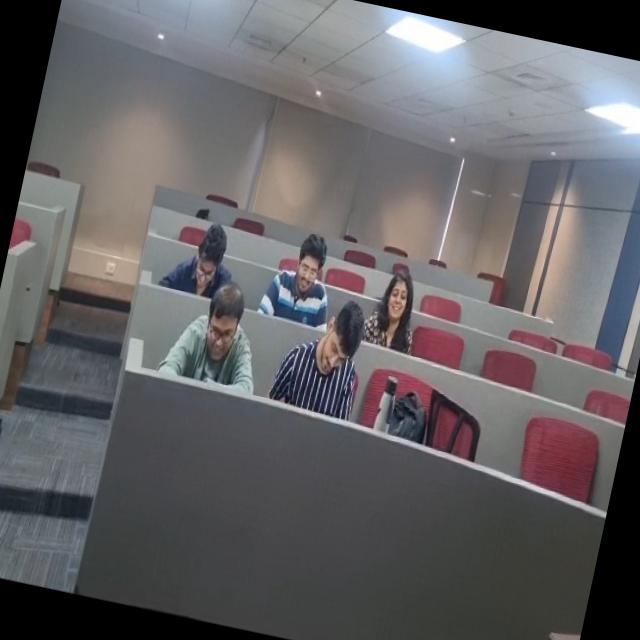cheating: (370, 252, 440, 352), (267, 225, 338, 318)
non-cheating: (176, 270, 270, 396), (286, 296, 376, 418), (160, 210, 243, 312)
